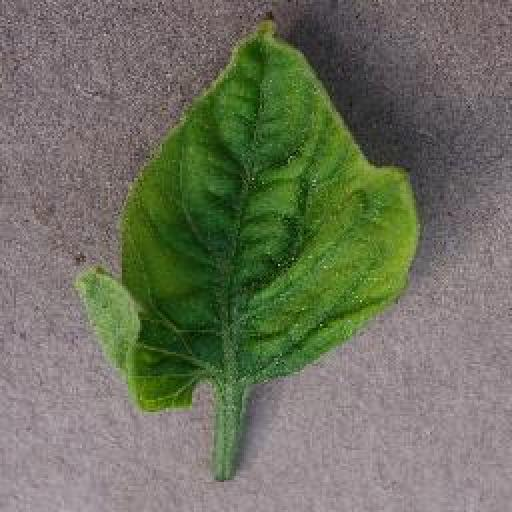disease_tomato: (74, 12, 420, 412)
